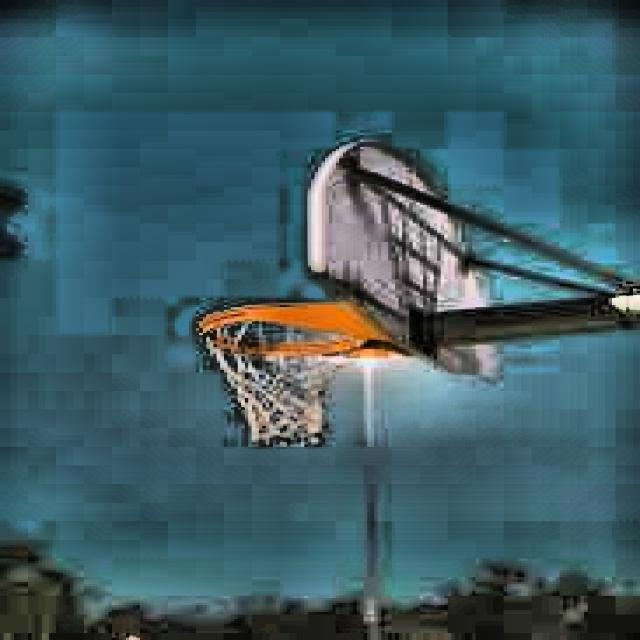rim: (192, 302, 360, 447)
